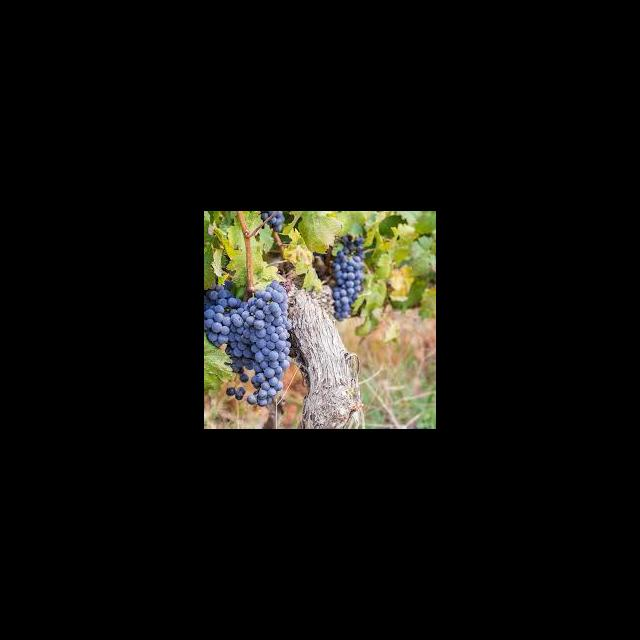grape: (204, 279, 292, 406), (330, 234, 365, 321), (259, 211, 284, 232)
